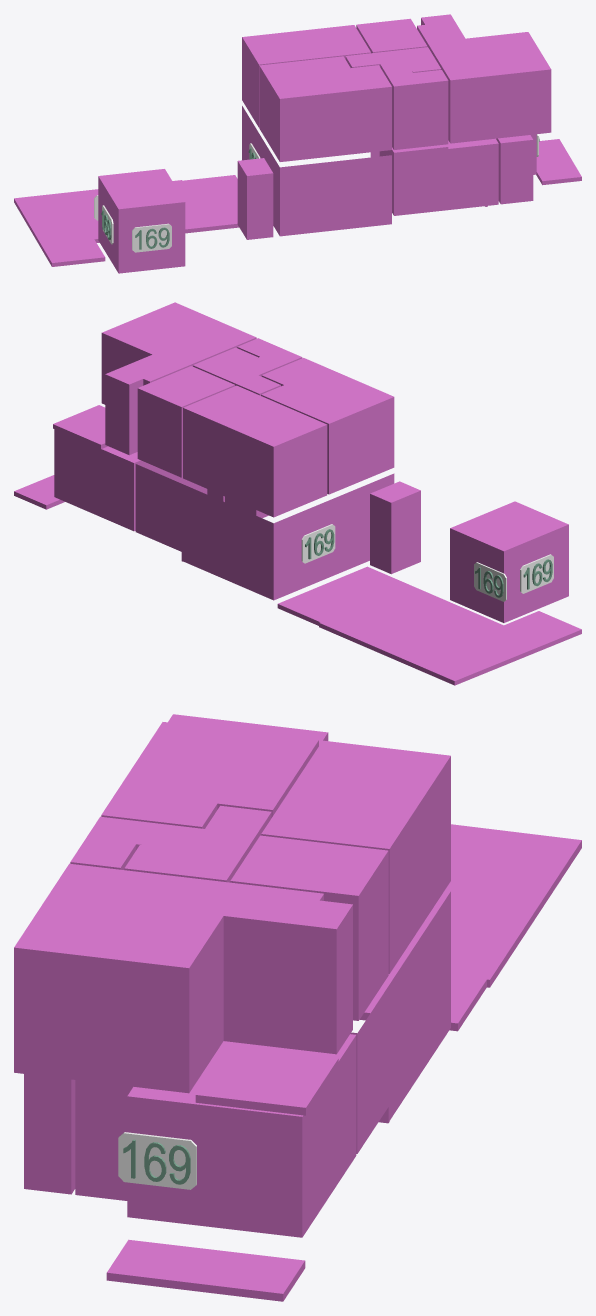
The picture shows the model from 3 angles, top to bottom: view 1: azimuth 30°, elevation 25°; view 2: azimuth 150°, elevation 25°; view 3: azimuth 270°, elevation 25°; orthographic projection. The views are drawn at different scales.
Parts seen in each view (by area): view 1: g_6, g_11, g_1, g_14, g_2, g_5, g_7, g_10, g_4, g_3, g_9, g_8 (+2 smaller); view 2: g_1, g_14, g_7, g_11, g_5, g_6, g_0, g_9, g_4, g_8, g_13, g_10 (+4 smaller); view 3: g_11, g_0, g_7, g_14, g_6, g_1, g_9, g_12, g_13, g_8, g_3, g_2 (+3 smaller).
Boxes of the visible parts, x1,y1,x2,y2 form: g_6: [259, 56, 391, 161]; g_11: [417, 14, 551, 143]; g_1: [242, 106, 391, 236]; g_14: [14, 175, 239, 266]; g_2: [379, 138, 498, 215]; g_5: [98, 169, 185, 273]; g_7: [242, 25, 370, 127]; g_10: [386, 70, 448, 149]; g_4: [237, 158, 273, 239]; g_3: [496, 135, 533, 204]; g_9: [356, 18, 427, 53]; g_8: [345, 47, 441, 76]; g_1: [135, 464, 394, 600]; g_14: [277, 566, 581, 685]; g_7: [183, 385, 327, 517]; g_11: [101, 302, 256, 455]; g_5: [450, 501, 568, 622]; g_6: [261, 358, 394, 494]; g_0: [54, 429, 207, 531]; g_9: [137, 366, 235, 477]; g_4: [370, 481, 420, 574]; g_8: [193, 347, 280, 395]; g_13: [53, 405, 107, 448]; g_10: [237, 338, 302, 368]; g_11: [14, 863, 352, 1093]; g_0: [127, 1034, 356, 1237]; g_7: [261, 740, 450, 973]; g_14: [360, 824, 581, 1031]; g_6: [101, 722, 318, 828]; g_1: [350, 891, 450, 1153]; g_9: [230, 835, 388, 1020]; g_12: [106, 1239, 305, 1301]; g_13: [195, 1045, 338, 1115]; g_8: [124, 805, 271, 882]; g_3: [24, 1074, 75, 1194]; g_2: [75, 1080, 132, 1200].
Bounding box in the file's own units: 20.04 × 5.35 × 9.81.
